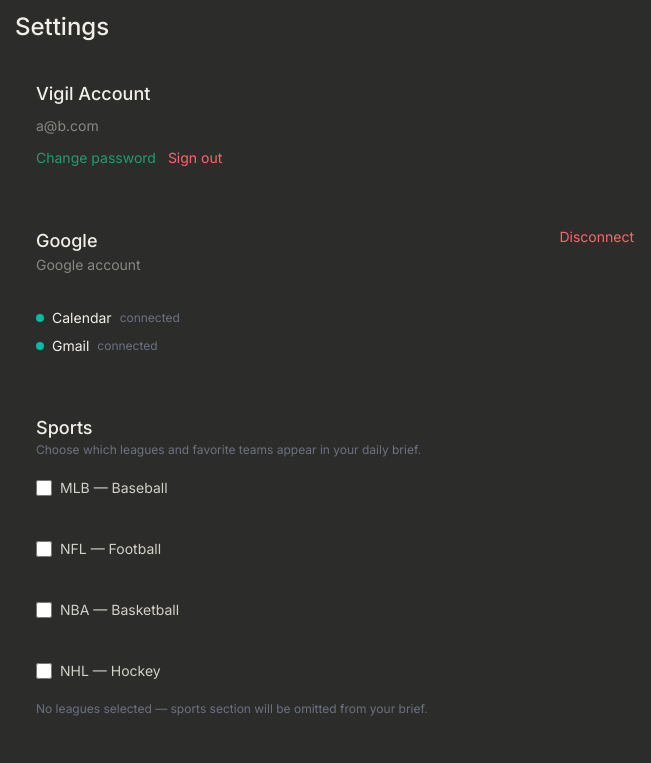
Test: SettingsPage › sports source picker (SPORTS-01) › SPORTS-01b-pwa-upstream-bucket-no-countdown: 502 without retryAfter renders upstream copy + enabled Retry + no countdown
This screenshot has width=651, height=763.
Click the checkbox with test id "sports-checkbox-mlb": (44, 488) [36, 480, 52, 496]
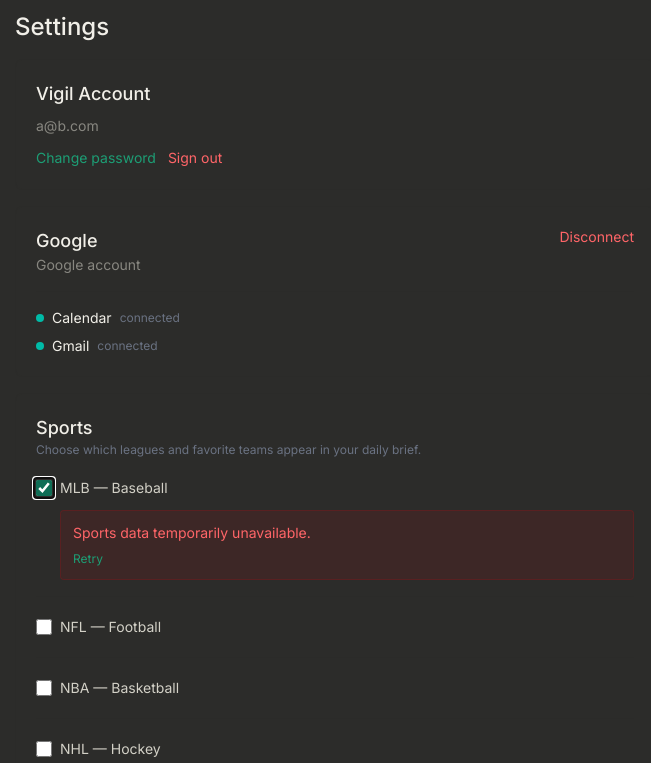
Now the text "Sports data temporarily unavailable." is shown, box [73, 524, 311, 541]
Now the button with test id "sports-retry-mlb" is enabled, box [73, 551, 103, 567]
